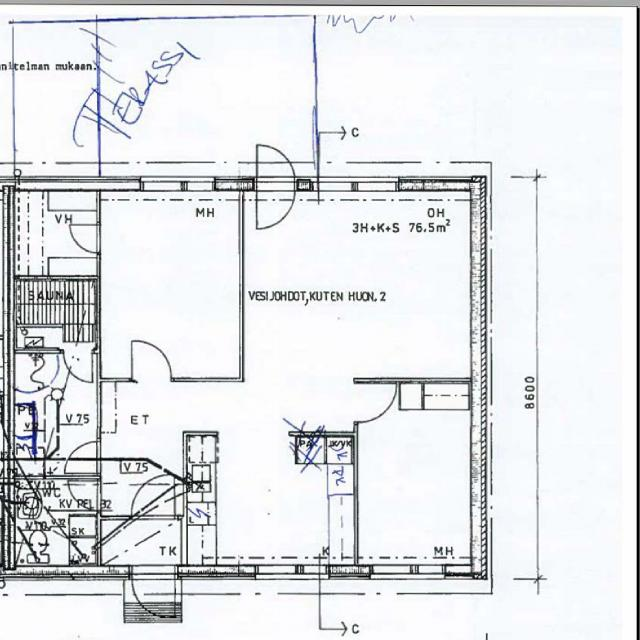door: (132, 565, 174, 621), (256, 176, 295, 228), (256, 139, 295, 191), (132, 474, 175, 519), (132, 339, 171, 382), (354, 384, 397, 422), (64, 442, 101, 474), (67, 480, 100, 510), (64, 348, 92, 380), (68, 225, 100, 253)
